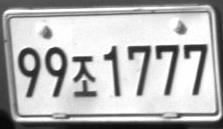1: (102, 45, 124, 97)
7: (154, 44, 179, 96), (183, 43, 208, 95), (127, 44, 151, 96)
9: (17, 46, 41, 98), (44, 46, 68, 97)
조: (71, 54, 97, 98)
